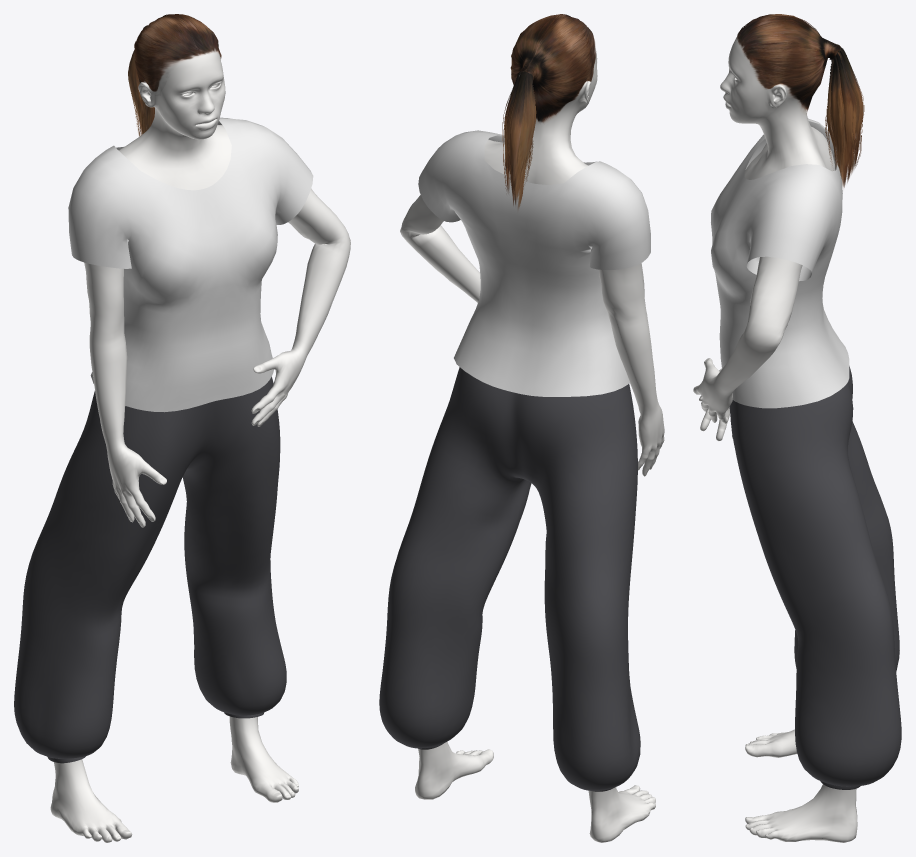
File: mannequin-female-hand_on_hip.glb
3 renders of one model, left to right at view 1: azimuth 30°, elevation 25°; view 2: azimuth 150°, elevation 25°; view 3: azimuth 270°, elevation 25°, orthographic. The views are drawn at different scales.
Parts seen in each view (by area): view 1: Pants, Shirt, Body, Hair; view 2: Pants, Shirt, Body, Hair; view 3: Pants, Shirt, Body, Hair.
Part boxes in pixels (x1=…): Pants: x1=14, y1=377, x2=286, y2=763; Shirt: x1=68, y1=117, x2=313, y2=412; Body: x1=50, y1=48, x2=350, y2=842; Hair: x1=128, y1=14, x2=221, y2=136; Pants: x1=379, y1=367, x2=640, y2=791; Shirt: x1=418, y1=130, x2=650, y2=396; Body: x1=400, y1=47, x2=664, y2=842; Hair: x1=502, y1=14, x2=595, y2=209; Pants: x1=729, y1=366, x2=901, y2=789; Shirt: x1=711, y1=118, x2=849, y2=408; Body: x1=693, y1=37, x2=857, y2=842; Hair: x1=737, y1=14, x2=864, y2=187.
Size of the model in its own units: 0.5968 by 1.64 by 0.399.
4 materials, 1 textured.
